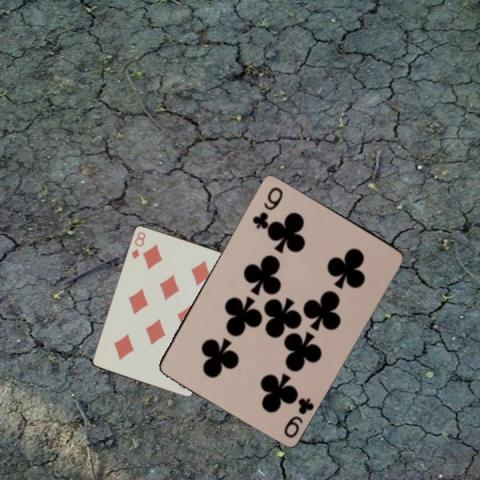8d: (129, 228, 147, 260)
9c: (249, 183, 284, 230), (281, 394, 315, 439)
